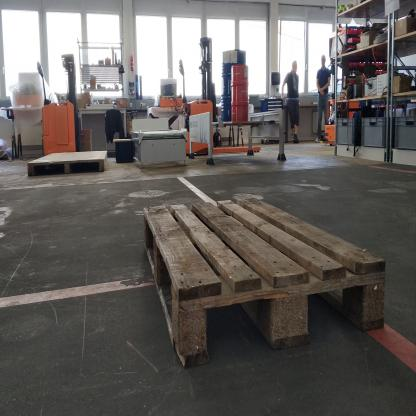BoxFace: (140, 190, 388, 372), (25, 147, 110, 180)
